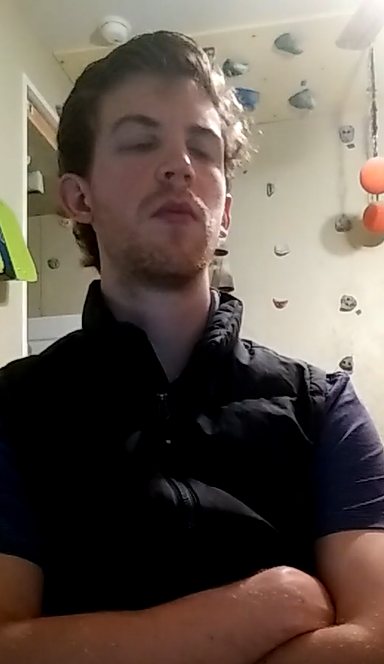Sleeping: (100, 111, 226, 170)
